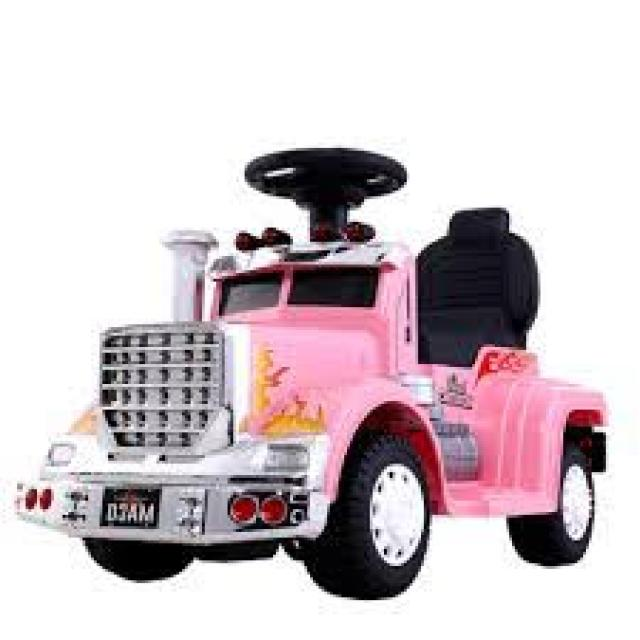Car: (11, 142, 609, 600)
